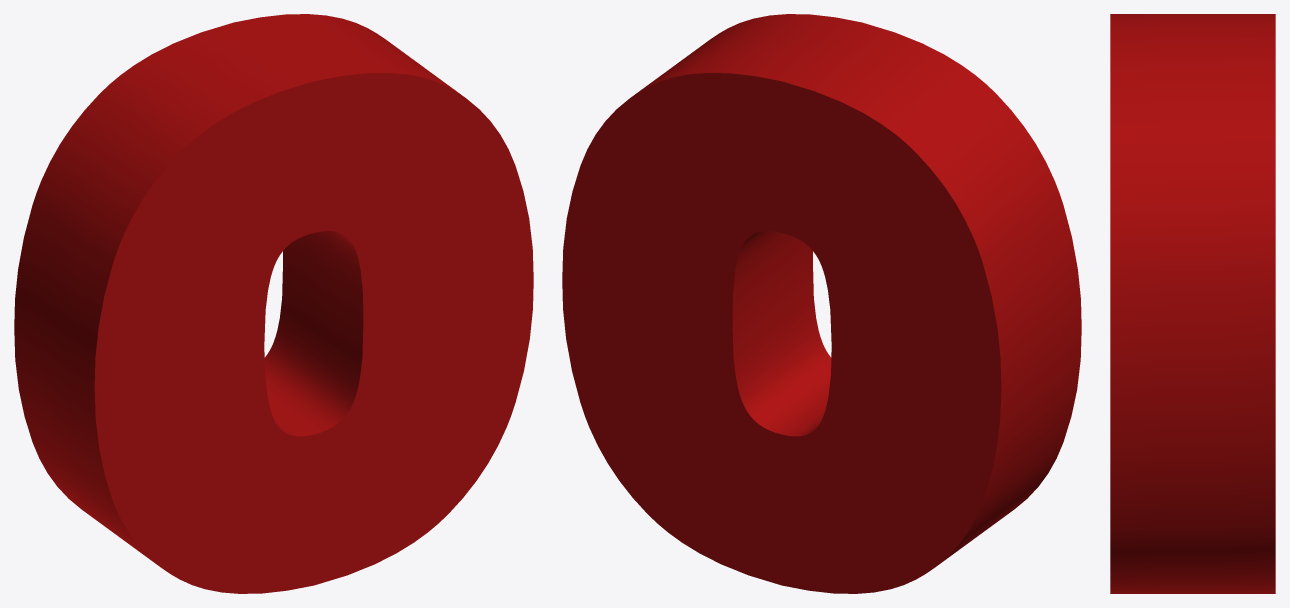
3 renders of one model, left to right at view 1: azimuth 30°, elevation 25°; view 2: azimuth 150°, elevation 25°; view 3: azimuth 270°, elevation 25°, orthographic. The views are drawn at different scales.
Visible parts, largest first — view 1: Texto; view 2: Texto; view 3: Texto.
Part boxes in pixels (left/top/right/bottom): Texto: left=14, top=14, right=533, bottom=593; Texto: left=562, top=14, right=1081, bottom=593; Texto: left=1110, top=14, right=1275, bottom=593.
Size of the model in its own units: 1.36 by 1.49 by 0.43.
